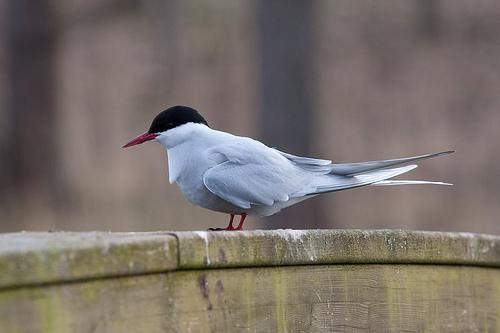bird: (118, 105, 455, 237)
